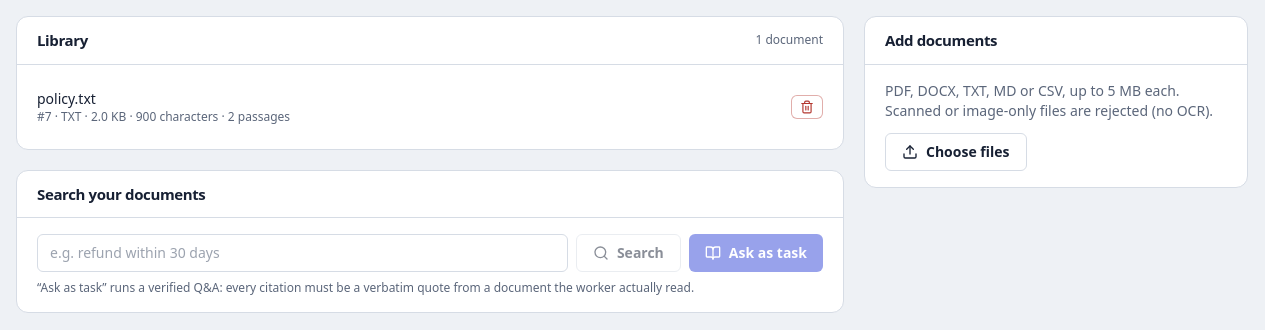
Scenario: documents: deleting asks the API and refreshes
Click the button named "delete policy.txt": click(807, 106) left=791, top=94, right=823, bottom=118
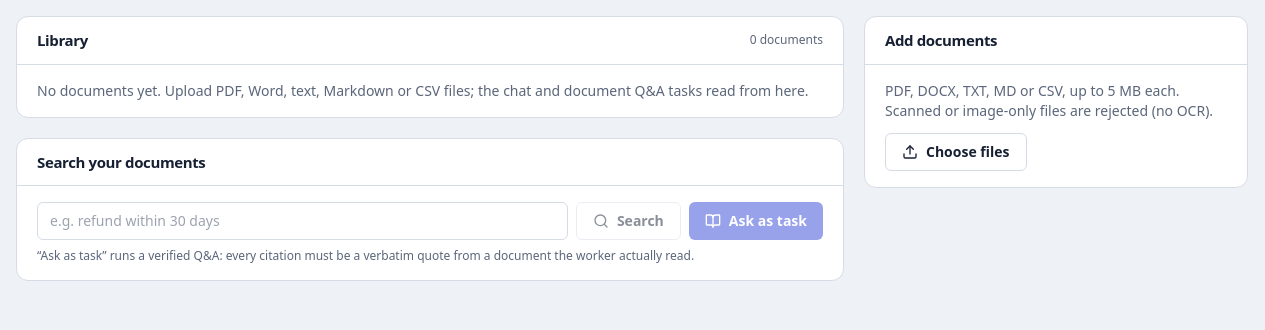
Expected: the text "No documents yet" is shown, left=37, top=80, right=808, bottom=100
